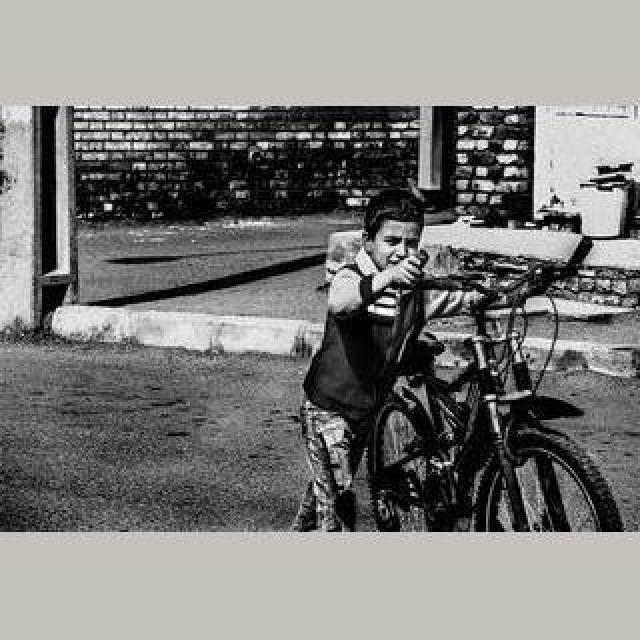MC-Bike: (300, 188, 442, 524)
Person: (357, 269, 621, 531)
